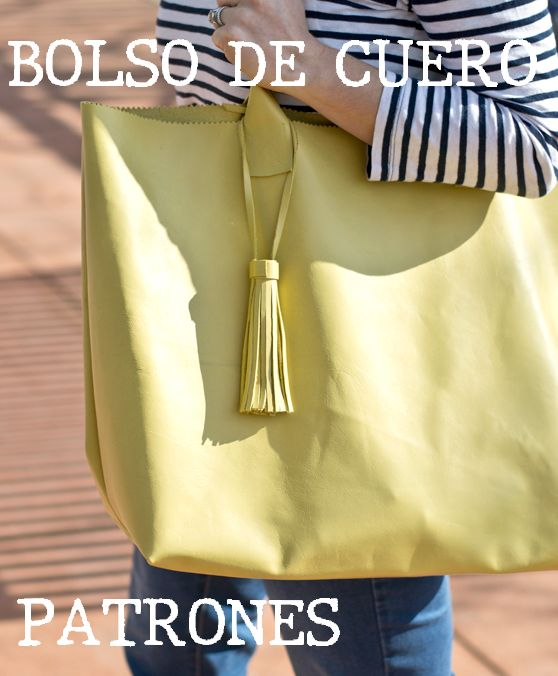cuero: (76, 98, 558, 581)
